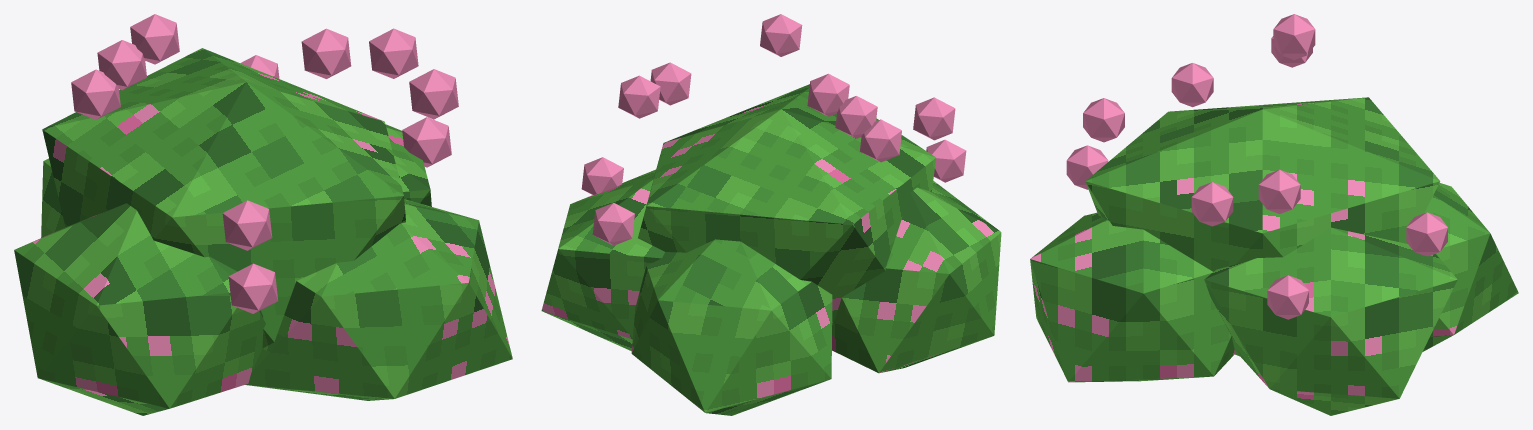
Rendered from bush_pink.glb.
3 renders of one model, left to right at view 1: azimuth 30°, elevation 25°; view 2: azimuth 150°, elevation 25°; view 3: azimuth 270°, elevation 25°, orthographic. The views are drawn at different scales.
Parts seen in each view (by area): view 1: bush_pink; view 2: bush_pink; view 3: bush_pink.
Boxes of the visible parts, x1=… form: bush_pink: x1=14, y1=14, x2=512, y2=415; bush_pink: x1=541, y1=14, x2=1001, y2=415; bush_pink: x1=1030, y1=14, x2=1518, y2=415.
Bounding box in the file's own units: 1.66 × 1.33 × 1.79.
Materials: 2 (1 with a texture image).
